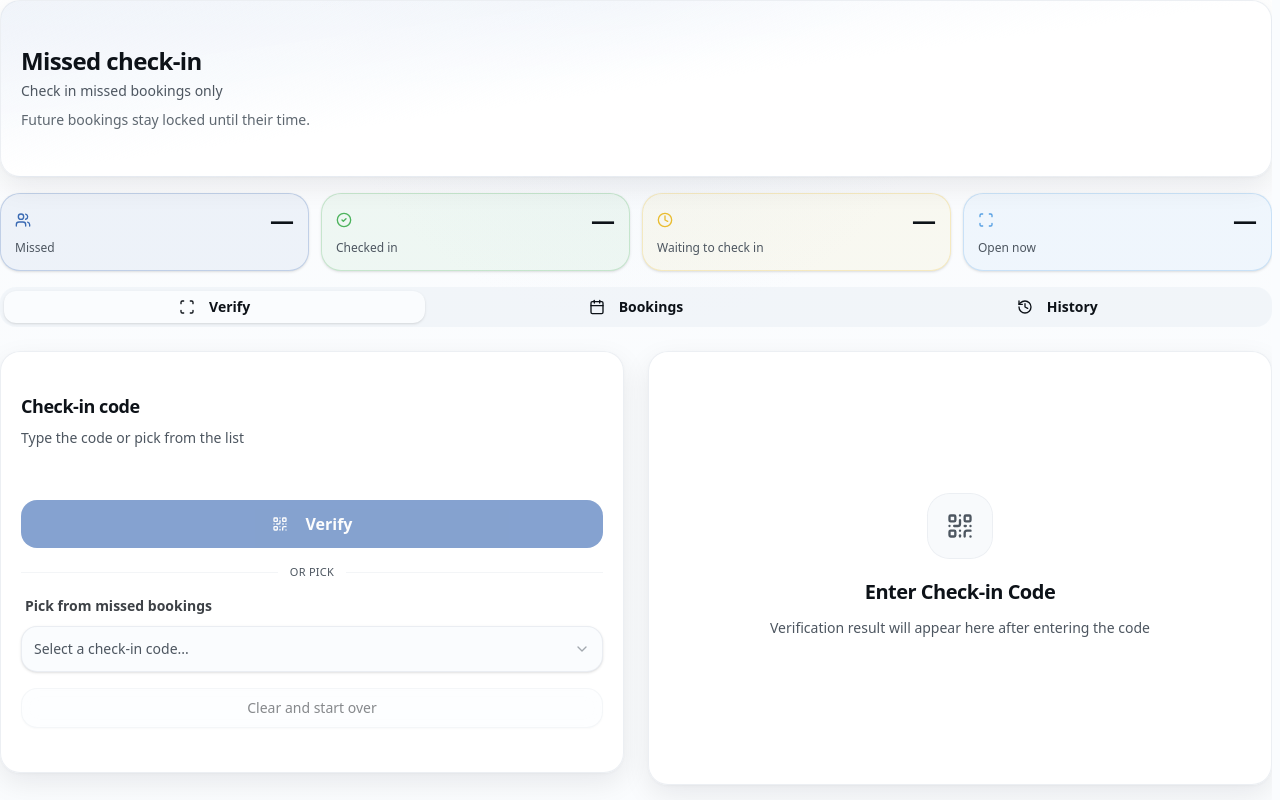
Test: CheckInPage › shows booking day, time, court, and city in the admin missed picker
Press the mouse on the dropdown named "pick from missed bookings": (111, 649) [21, 626, 603, 672]
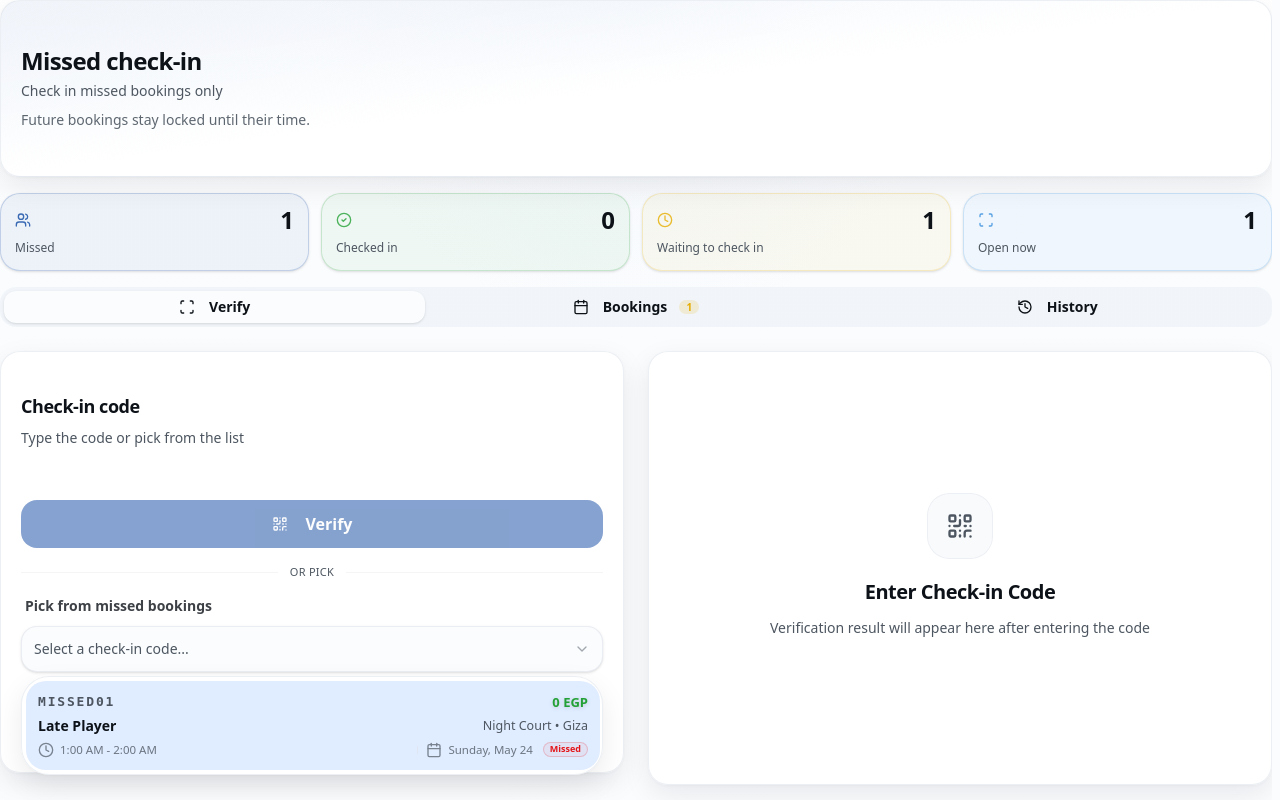
Now the option is shown, box [26, 681, 600, 770]
Now the text "Late Player" is shown, box [38, 716, 116, 736]
Now the text "Night Court • Giza" is shown, box [483, 717, 588, 734]
